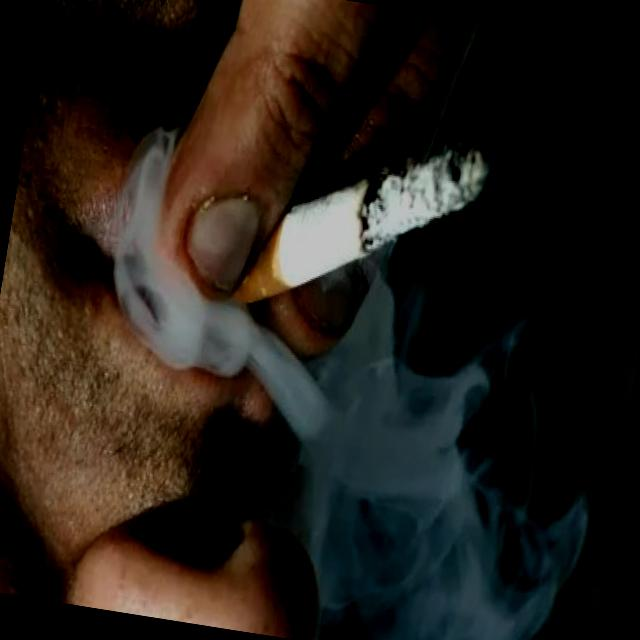smoke: (218, 100, 500, 353)
